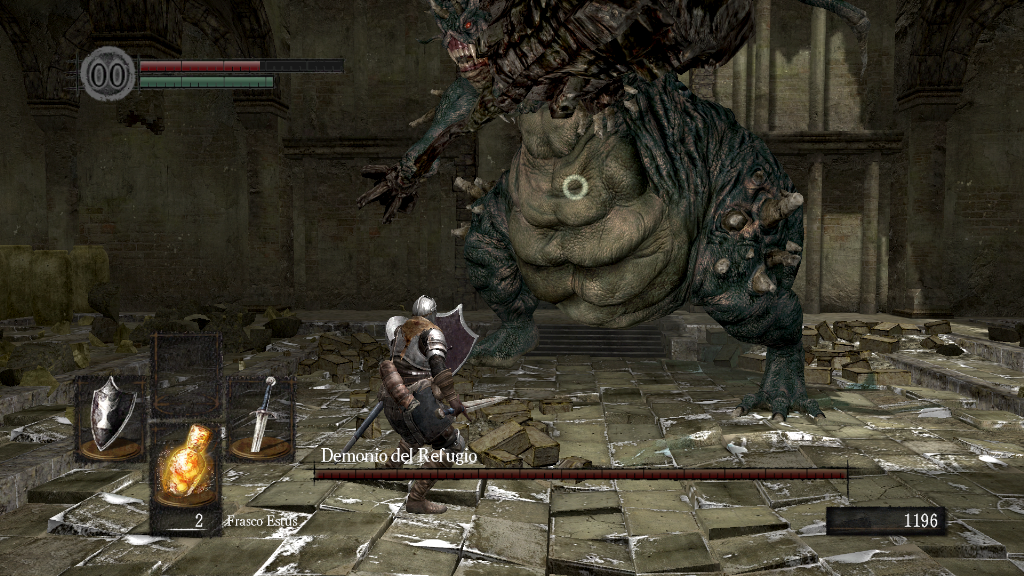asylumDemon: (354, 1, 833, 422)
bossHP: (314, 469, 847, 479)
health: (138, 58, 343, 71)
humanity: (80, 45, 136, 102)
player: (377, 291, 507, 517)
souls: (825, 506, 945, 536)
stamina: (138, 74, 274, 88)
